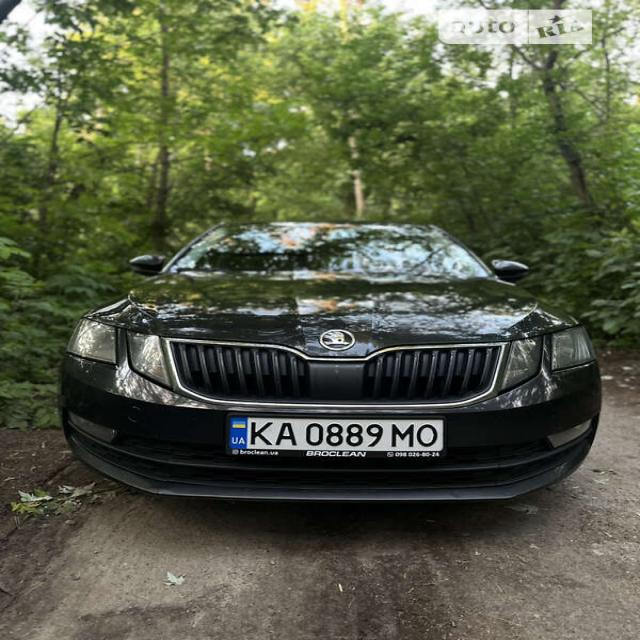plate: (228, 410, 452, 460)
